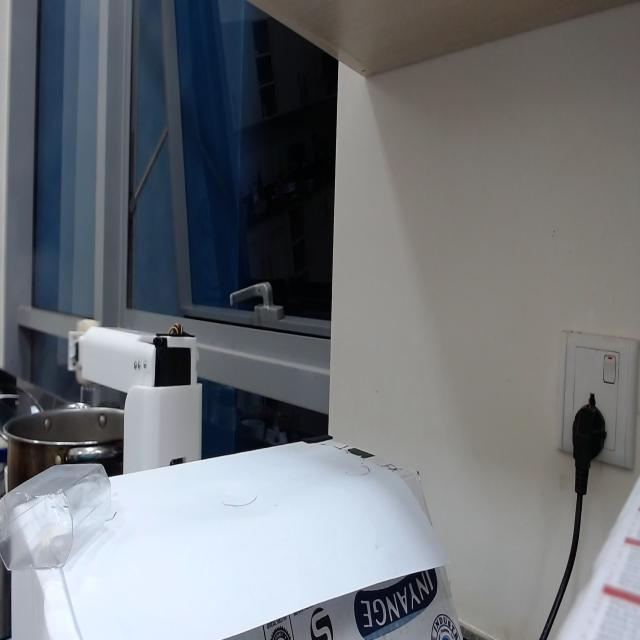cooking_pot: (2, 378, 127, 486)
